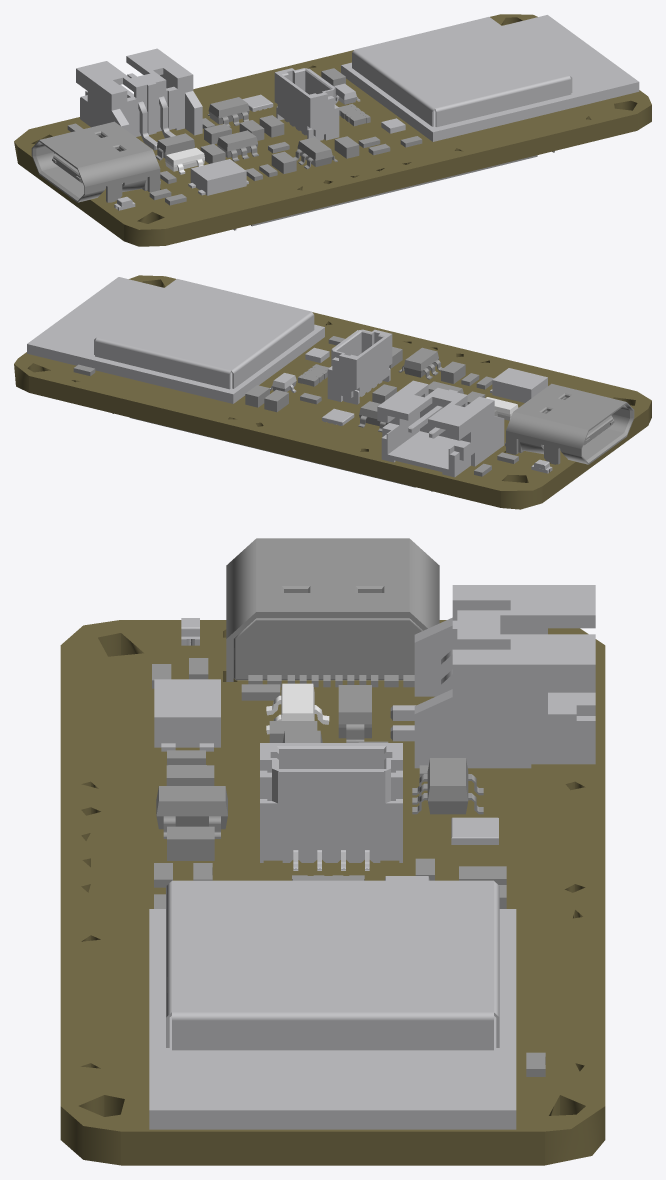
The model's file is ada-5691.glb.
3 renders of one model, top to bottom at view 1: azimuth 30°, elevation 25°; view 2: azimuth 150°, elevation 25°; view 3: azimuth 270°, elevation 25°, orthographic. The views are drawn at different scales.
Parts seen in each view (by area): view 1: 0.5833333333333334_0.5833333333333334_0.5833333333333334_0.8, 0.16666666666666666_0.16666666666666666_0.08333333333333333_, 0.3333333333333333_0.3333333333333333_0.3333333333333333_0, 0.9166666666666666_0.9166666666666666_0.9166666666666666_0.8; view 2: 0.5833333333333334_0.5833333333333334_0.5833333333333334_0.8, 0.16666666666666666_0.16666666666666666_0.08333333333333333_, 0.3333333333333333_0.3333333333333333_0.3333333333333333_0, 0.9166666666666666_0.9166666666666666_0.9166666666666666_0.8; view 3: 0.5833333333333334_0.5833333333333334_0.5833333333333334_0.8, 0.16666666666666666_0.16666666666666666_0.08333333333333333_, 0.3333333333333333_0.3333333333333333_0.3333333333333333_0, 0.9166666666666666_0.9166666666666666_0.9166666666666666_0.8.
Boxes of the visible parts, x1,y1,x2,y2 form: 0.5833333333333334_0.5833333333333334_0.5833333333333334_0.8: (76,15,639,210); 0.16666666666666666_0.16666666666666666_0.08333333333333333_: (14,14,651,246); 0.3333333333333333_0.3333333333333333_0.3333333333333333_0: (31,68,554,230); 0.9166666666666666_0.9166666666666666_0.9166666666666666_0.8: (165,147,204,174); 0.5833333333333334_0.5833333333333334_0.5833333333333334_0.8: (27,277,611,477); 0.16666666666666666_0.16666666666666666_0.08333333333333333_: (14,275,651,509); 0.3333333333333333_0.3333333333333333_0.3333333333333333_0: (73,336,634,491); 0.9166666666666666_0.9166666666666666_0.9166666666666666_0.8: (486,397,518,420); 0.5833333333333334_0.5833333333333334_0.5833333333333334_0.8: (149,585,595,1129); 0.16666666666666666_0.16666666666666666_0.08333333333333333_: (60,620,605,1165); 0.3333333333333333_0.3333333333333333_0.3333333333333333_0: (152,538,545,1076); 0.9166666666666666_0.9166666666666666_0.9166666666666666_0.8: (266,683,329,734).
Size of the model in its own units: 5.2 by 0.7893 by 2.29.
